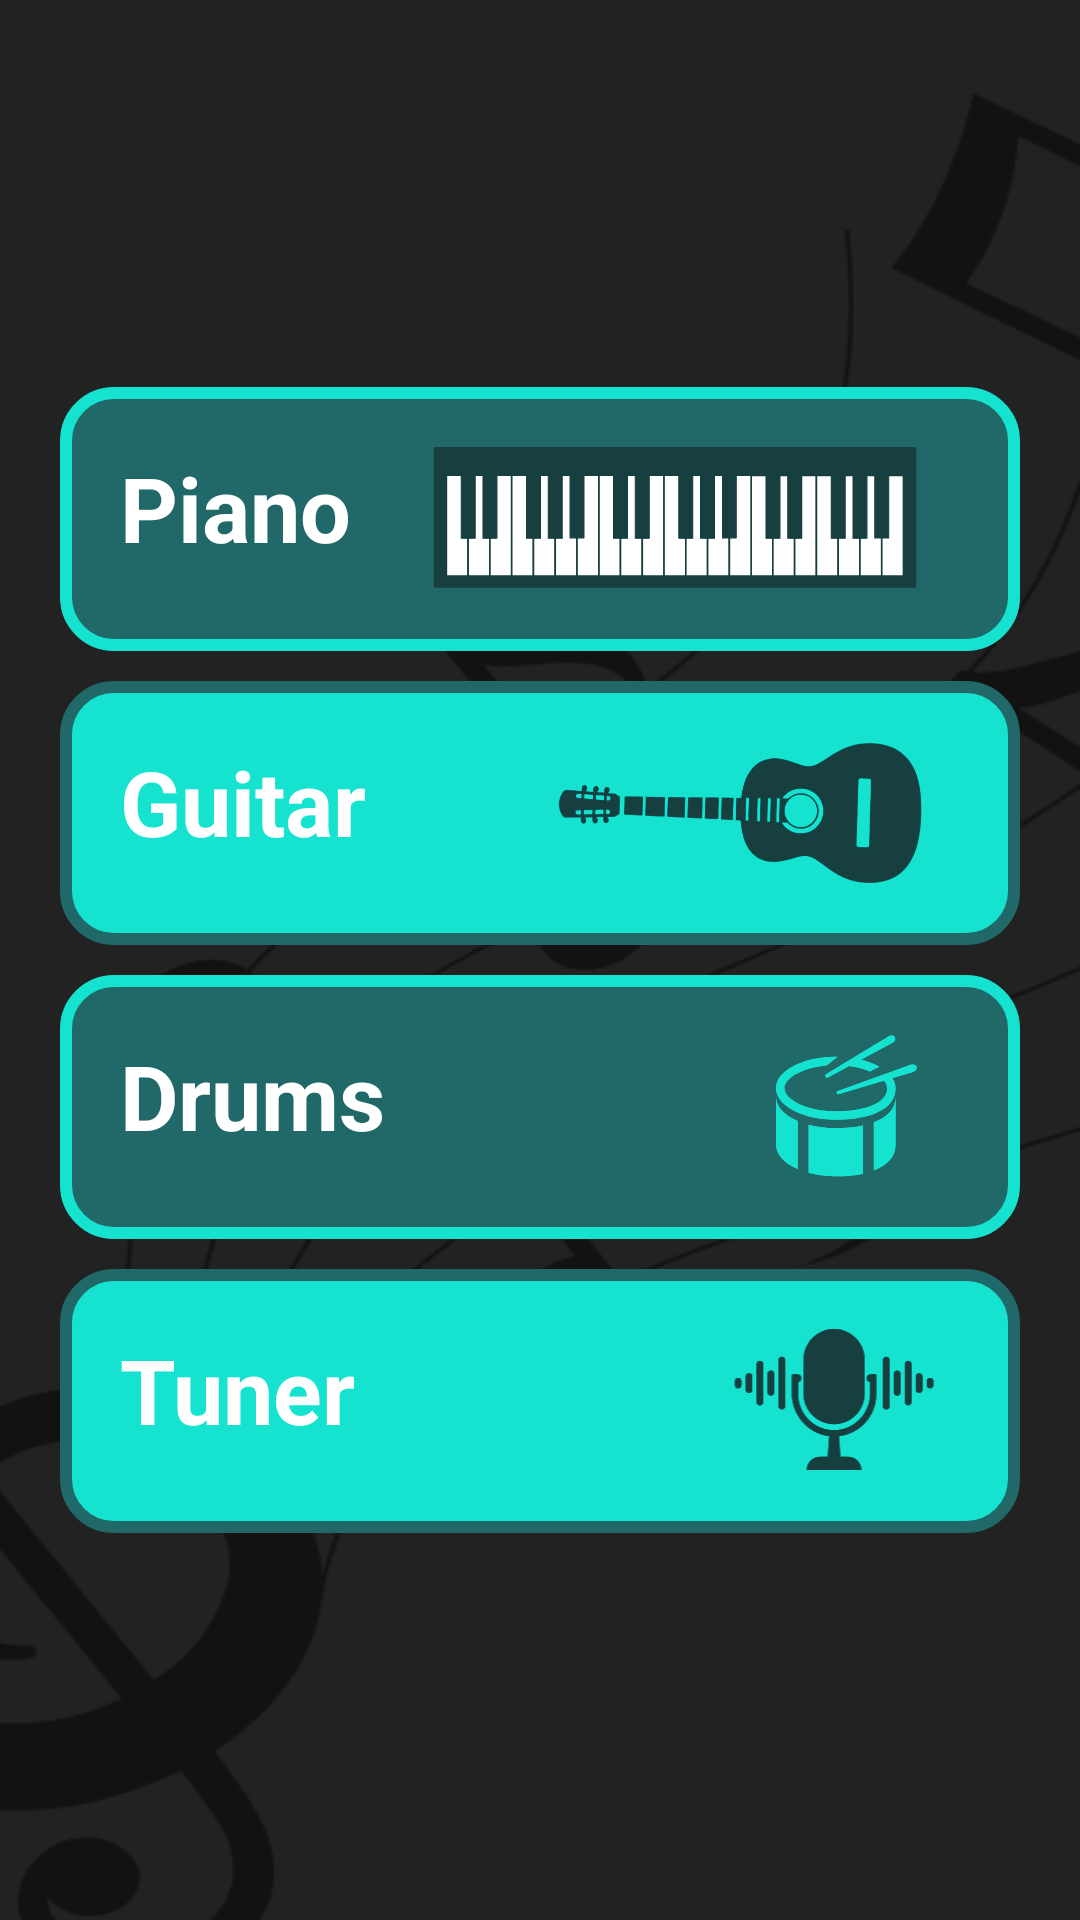

Locate icon controls on the screen. Image size 1080px x 1920px, boxes as Rect(x1, y1, x2, y2).
drums: Rect(776, 1035, 917, 1177)
tuner: Rect(734, 1329, 934, 1470)
